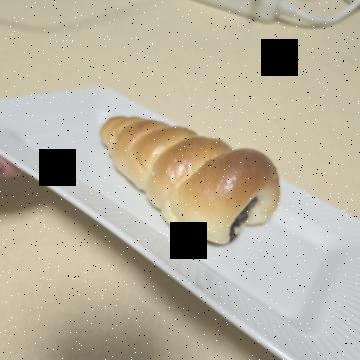cream horn: (81, 66, 251, 284)
